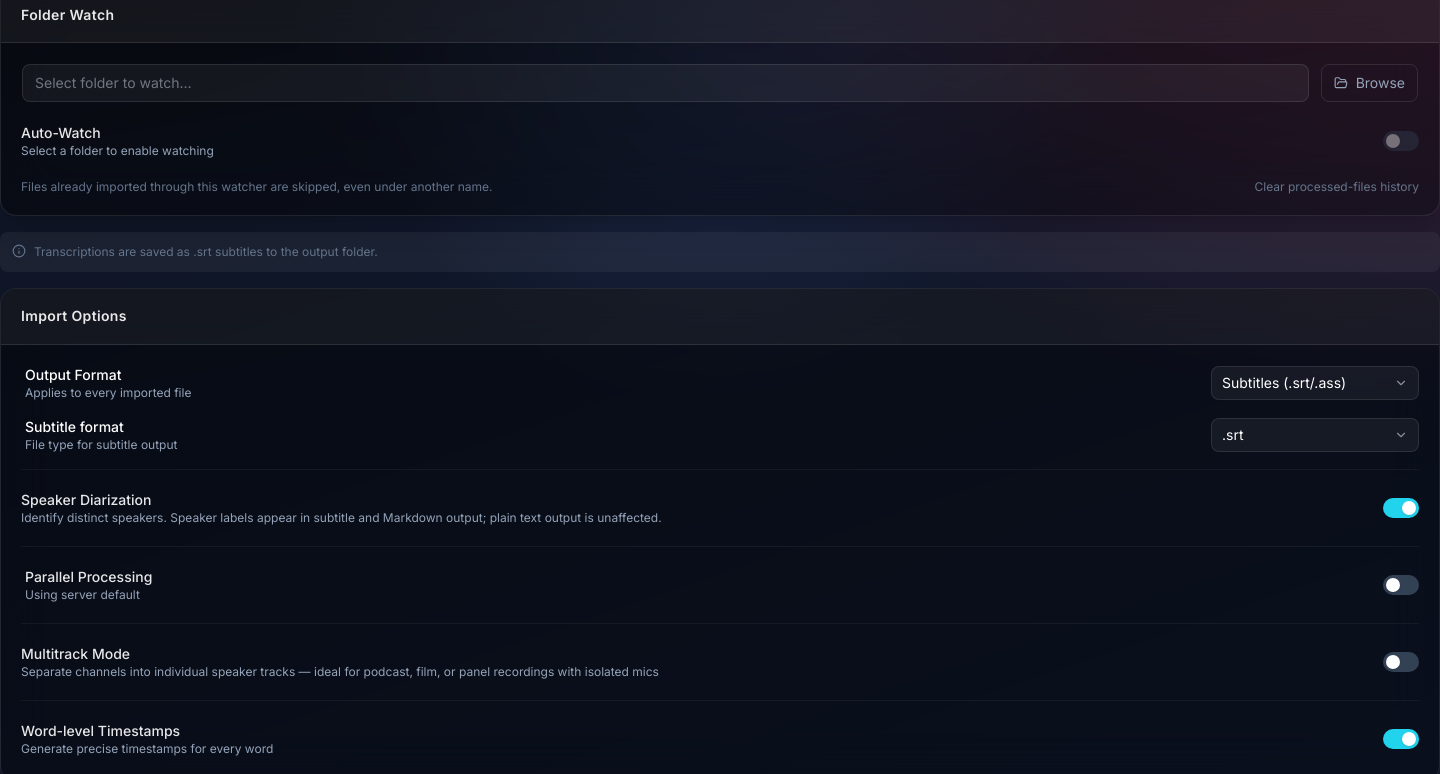
Test: SessionImportTab — explicit output-format selector (GH-212) › hides the Subtitle format select for Plain text and shows it for Both
The width and height of the screenshot is (1440, 774).
(page scrolled)
Check: the button with aria-label "subtitle format" is shown, box [1211,418,1419,452]
Click the button with aria-label "output format" at {"x": 1315, "y": 382}, box [1211,366,1419,400]
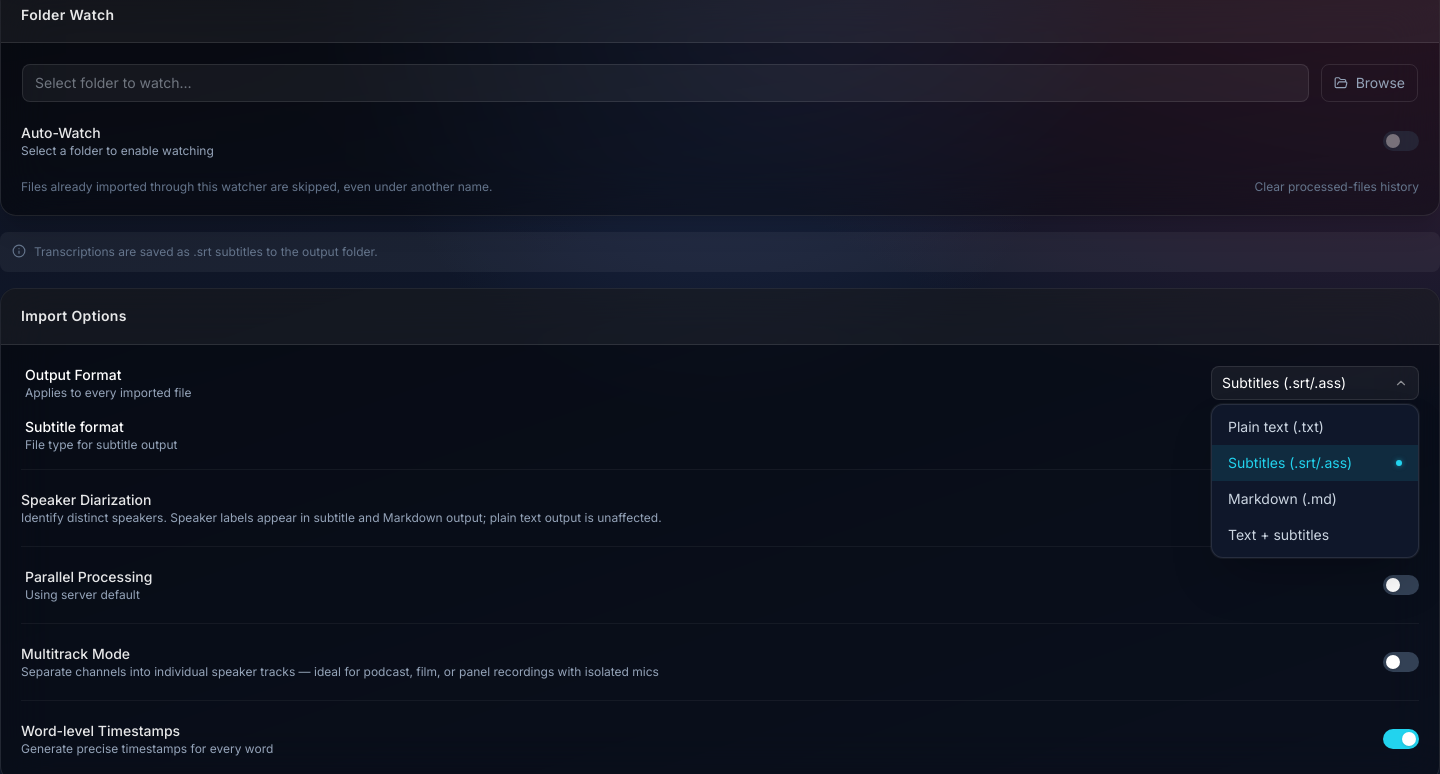
Click the option "Plain text (.txt)" at {"x": 1276, "y": 426}, box [1228,418,1324,435]
(page scrolled)
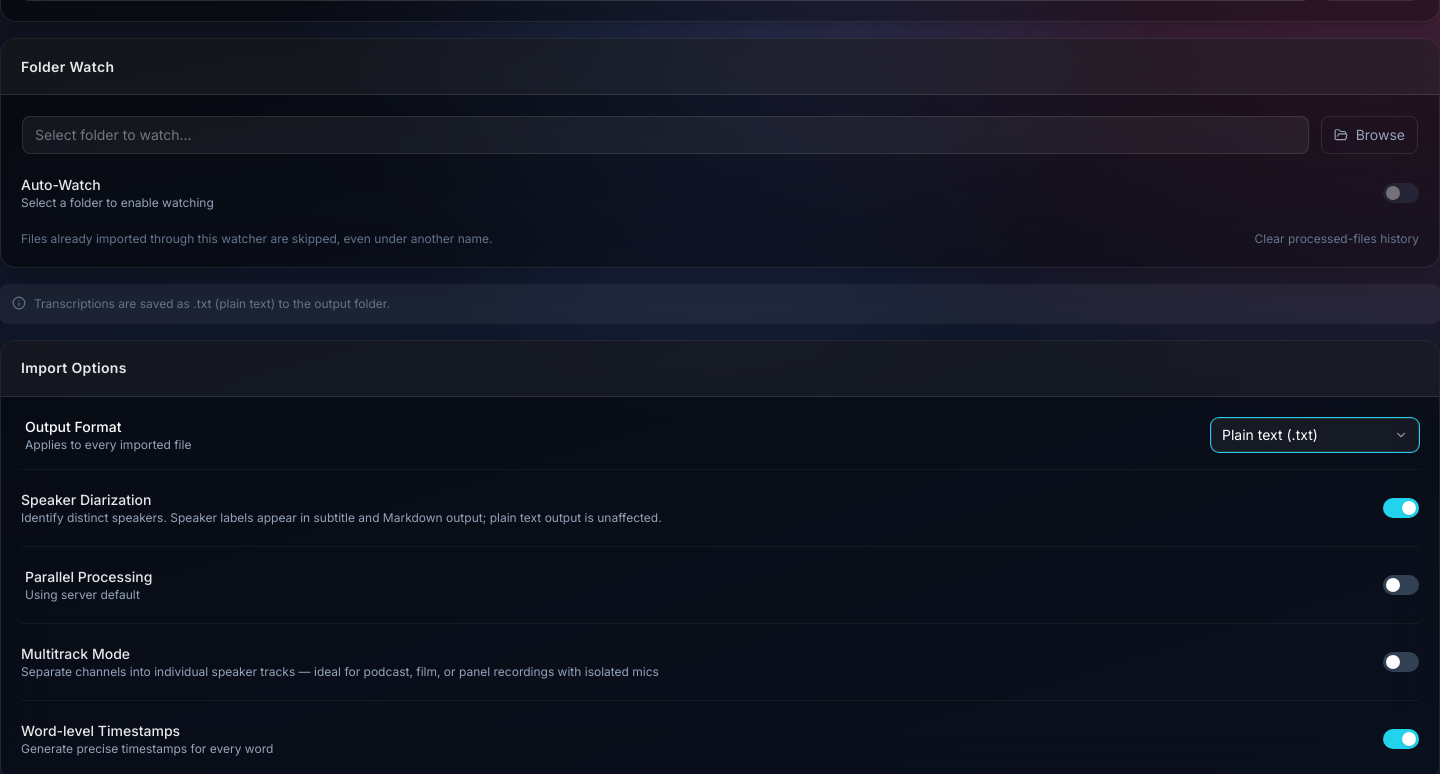
Check: the text "Subtitle format" is gone
Click the button with aria-label "output format" at {"x": 1315, "y": 434}, box [1211,418,1419,452]
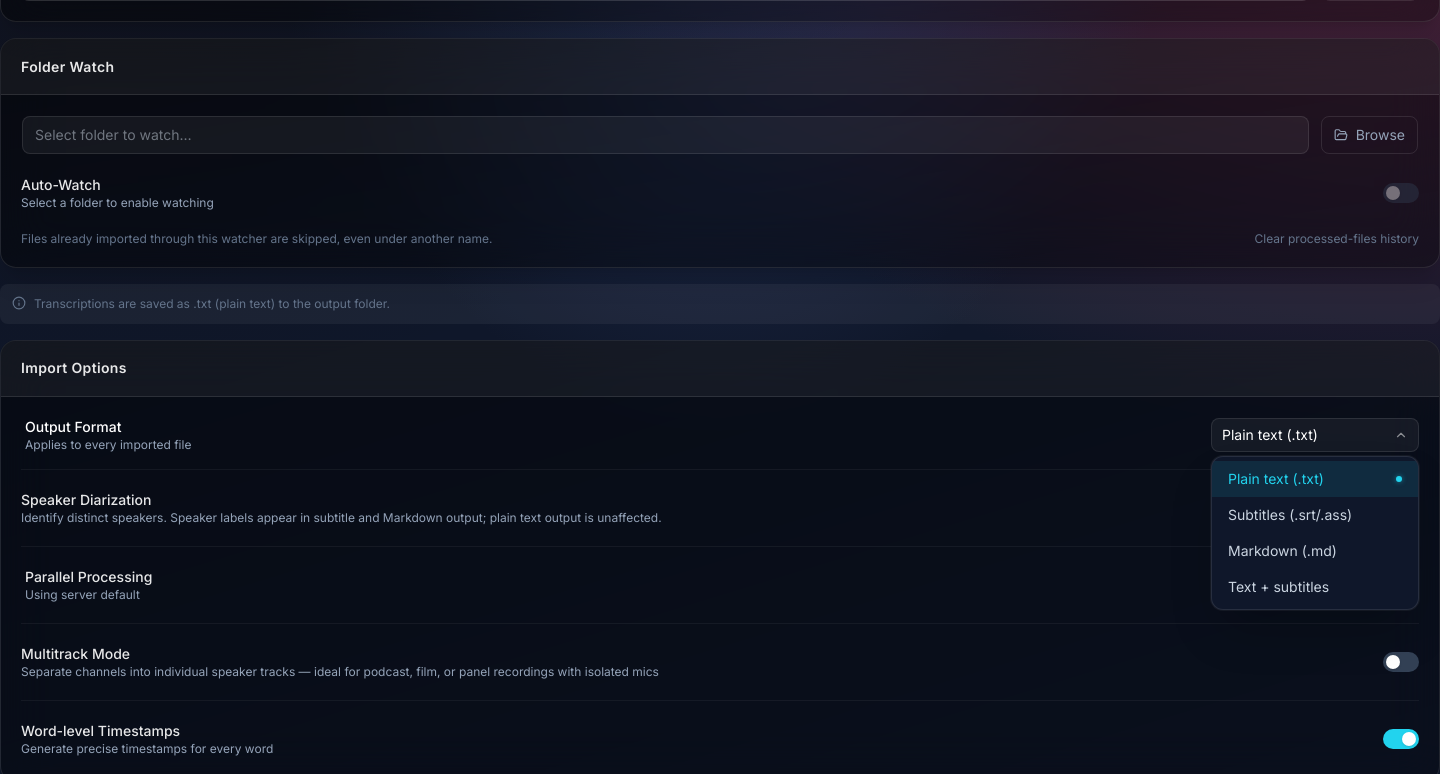
Click the option "Text + subtitles" at {"x": 1279, "y": 586}, box [1228,578,1329,595]
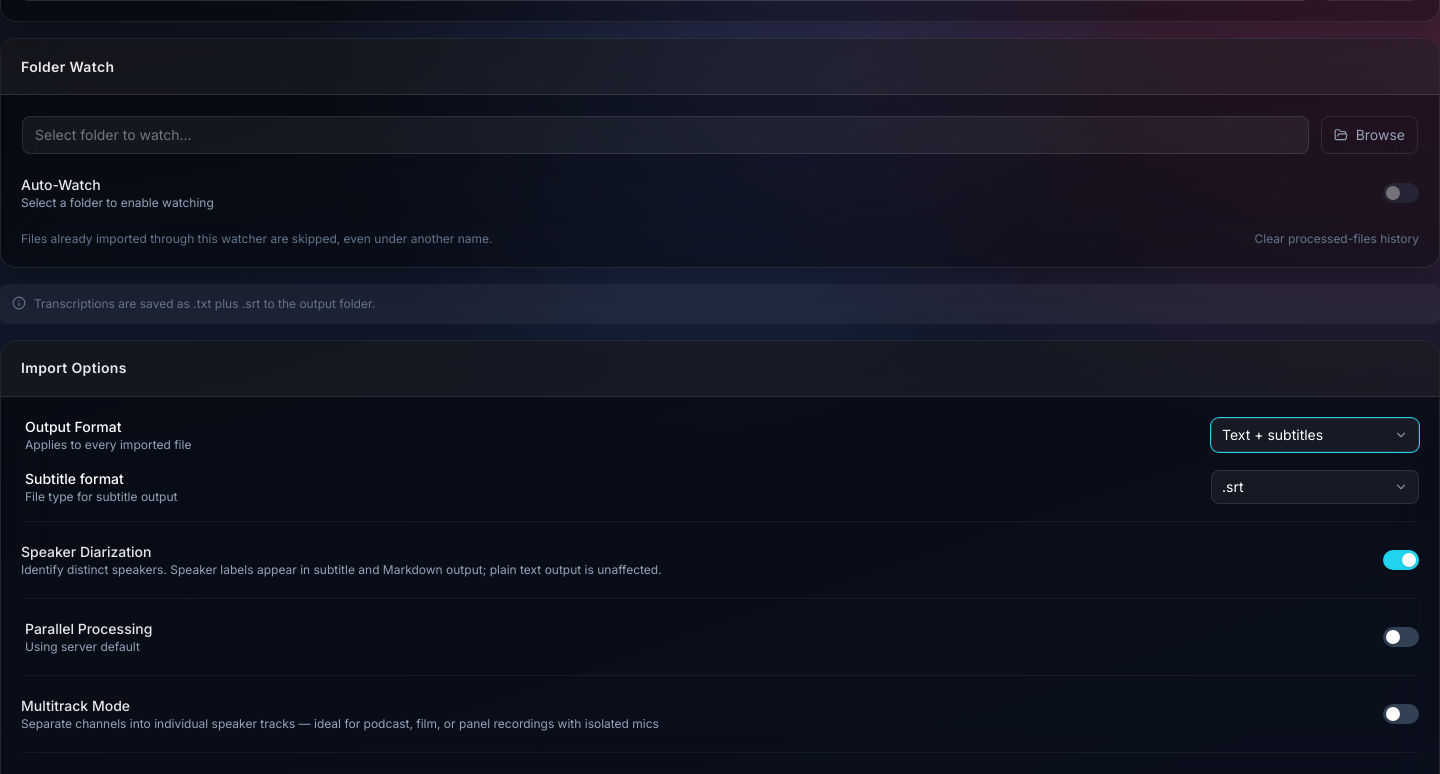
Check: the button with aria-label "subtitle format" is shown, box [1211,470,1419,504]
